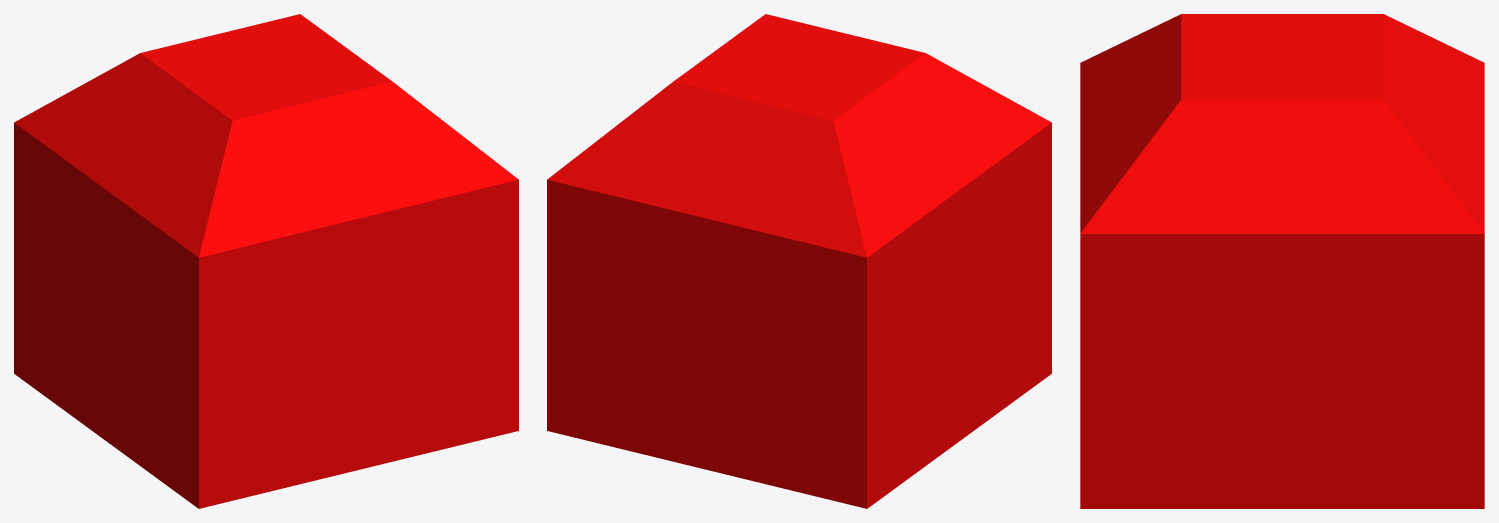
Rendered from TetrisA.fbx.
3 renders of one model, left to right at view 1: azimuth 30°, elevation 25°; view 2: azimuth 150°, elevation 25°; view 3: azimuth 270°, elevation 25°, orthographic. The views are drawn at different scales.
Visible parts, largest first — view 1: Cube; view 2: Cube; view 3: Cube.
Boxes of the visible parts, bbox=[...] form: Cube: bbox=[14, 14, 518, 508]; Cube: bbox=[547, 14, 1051, 508]; Cube: bbox=[1080, 14, 1484, 508].
Bounding box in the file's own units: 200 × 200 × 200.
